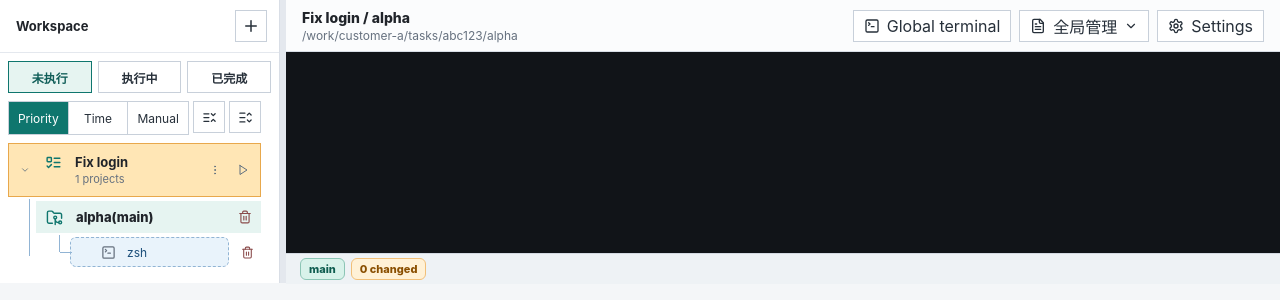
Test: App project terminal tree › keeps the current TODO view and context when workspace terminal creation fails
This screenshot has width=1280, height=300.
Click the button with test id "todo-view-completed" at {"x": 229, "y": 77}, box [187,61,271,93]
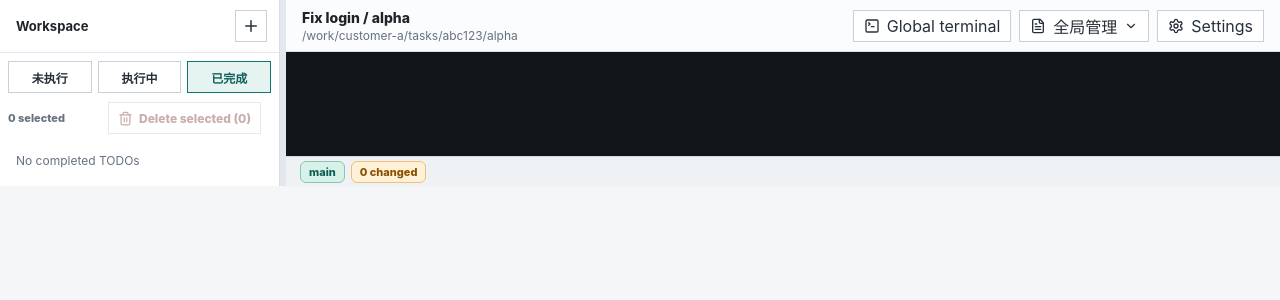
Expected: the button with test id "todo-view-completed" has class "active", [187,61,271,93]
Click the button with test id "create-global-terminal" at {"x": 932, "y": 26}, box [853,10,1011,42]
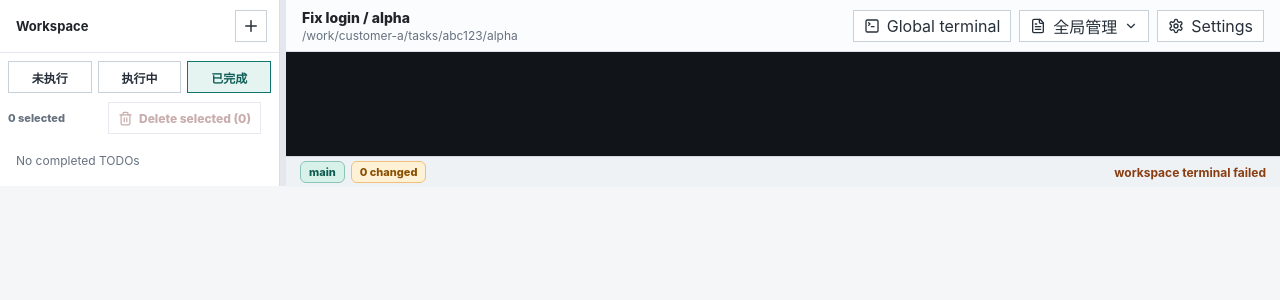
Expected: the text with class "status-error" reads "workspace terminal failed", [1114,164,1266,180]
